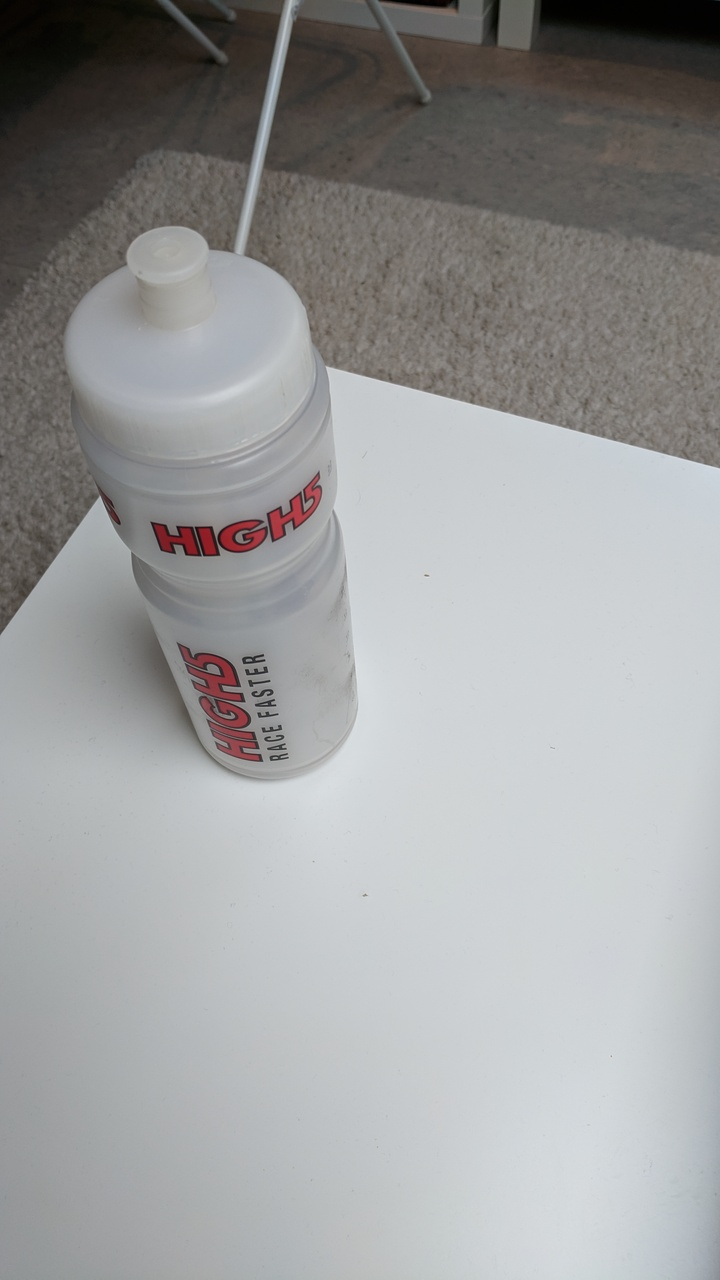high five bottle: (58, 220, 365, 800)
